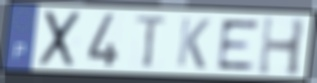4: (85, 11, 121, 70)
E: (215, 18, 261, 72)
H: (255, 14, 308, 78)
K: (174, 15, 212, 71)
T: (134, 13, 170, 70)
X: (36, 9, 83, 69)
